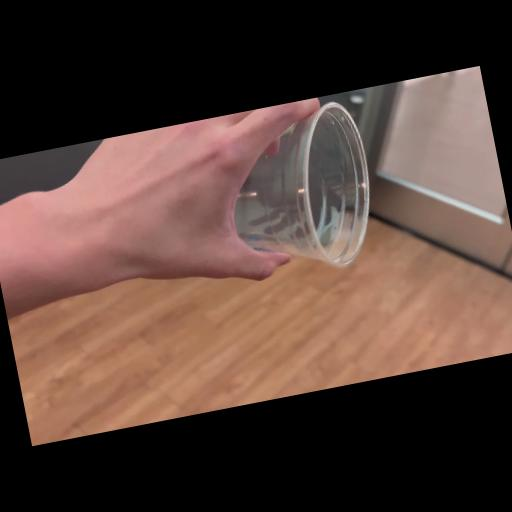lp_plastic_cup: (216, 96, 386, 286)
